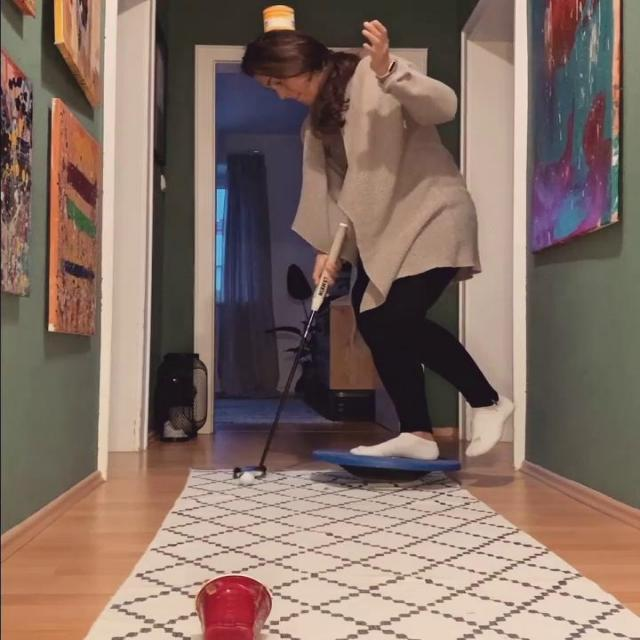ClubHead: (232, 466, 269, 480)
GolfBall: (238, 472, 255, 484)
